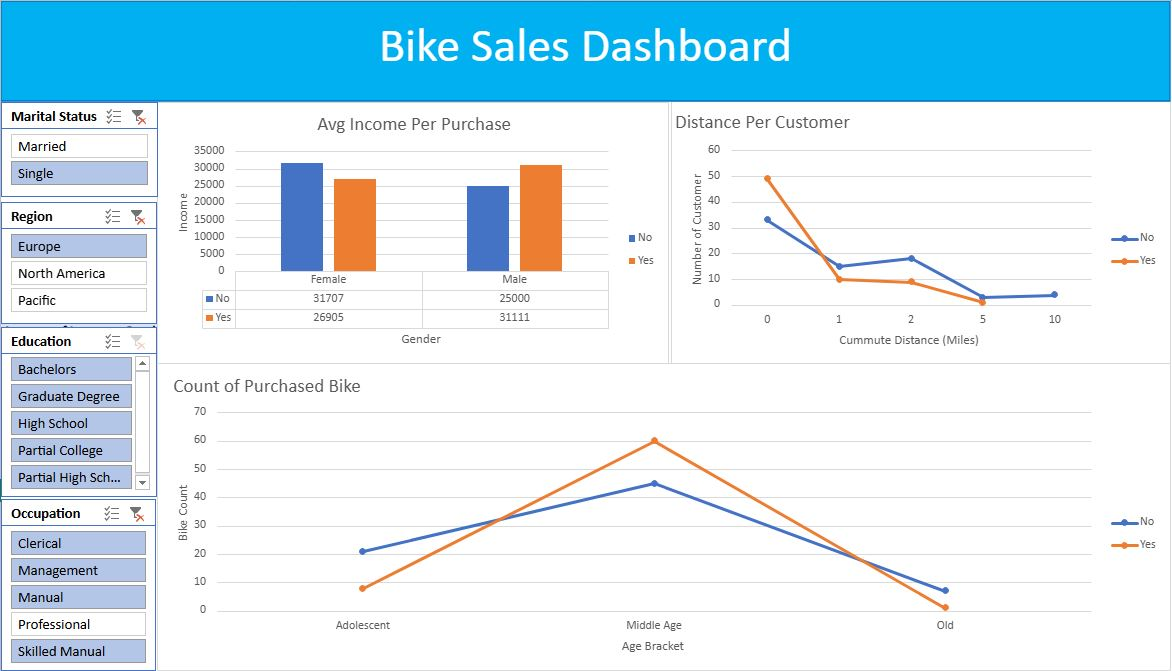

Layout of this report page (visuals, bound fields, positions):
{"tool":"powerbi","page":{"name":"Page 1","canvas":[1280,720],"ordinal":0},"visuals":[{"type":"clusteredColumnChart","title":"Average of Income by Gender / Bike","fields":{"Category":["bike_buyers.Gender"],"Y":["Avg(bike_buyers.Income)"],"Series":["bike_buyers.Purchased Bike"]},"box":[209.1,110.9,498,322.9],"z":0},{"type":"slicer","fields":{"Values":["bike_buyers.Region"]},"box":[0,100.4,172.5,127.4],"z":1000},{"type":"slicer","fields":{"Values":["bike_buyers.Gender"]},"box":[0,239.1,172.5,103.8],"z":2000},{"type":"textbox","box":[0,0,1280,81.7],"z":3000},{"type":"slicer","fields":{"Values":["bike_buyers.No_children"]},"box":[0,342.8,172.5,181.6],"z":4000},{"type":"slicer","fields":{"Values":["bike_buyers.Occupation"]},"box":[0,540.2,208.6,179.3],"z":5000},{"type":"lineChart","title":"Number of Bike  vs. Avg. distance","fields":{"Series":["bike_buyers.Purchased Bike"],"Y":["CountNonNull(bike_buyers.Purchased Bike)"],"Category":["bike_buyers.Approx. Cummute Distance"]},"box":[707.1,110.5,562.7,323.7],"z":6000},{"type":"lineChart","title":"Bikes Count per Age Range ","fields":{"Y":["CountNonNull(bike_buyers.Purchased Bike)"],"Series":["bike_buyers.Purchased Bike"],"Category":["bike_buyers.Age Range"]},"box":[232.5,447.4,1028.1,272.3],"z":7000}]}

Visuals, with their boxes in screenshot pixels (x1, y1, x2, y2), scaled from the page's 1280x720 canvas onto the 1172x671 screenshot:
"Average of Income by Gender / Bike" clusteredColumnChart: detection(191, 103, 647, 404)
slicer - bike_buyers.Region: detection(0, 94, 158, 212)
slicer - bike_buyers.Gender: detection(0, 223, 158, 320)
textbox: detection(0, 0, 1171, 76)
slicer - bike_buyers.No_children: detection(0, 319, 158, 489)
slicer - bike_buyers.Occupation: detection(0, 503, 191, 670)
"Number of Bike  vs. Avg. distance" lineChart: detection(647, 103, 1163, 405)
"Bikes Count per Age Range " lineChart: detection(213, 417, 1154, 670)
